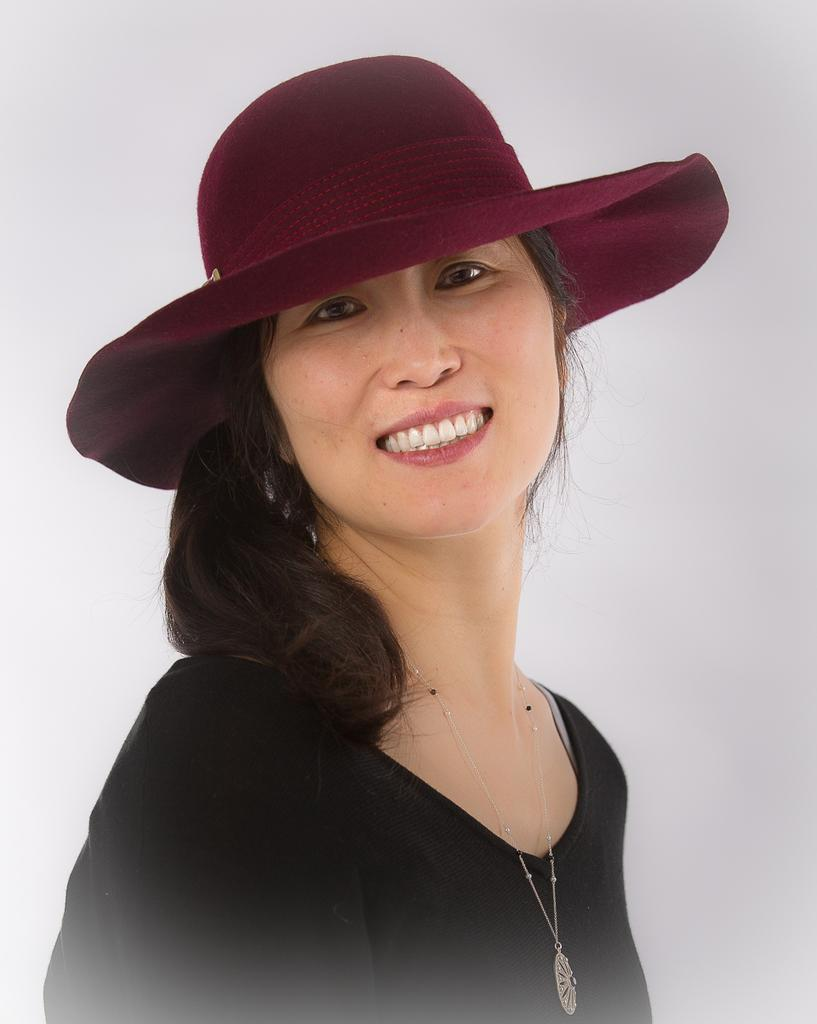Hat: (62, 50, 728, 490)
